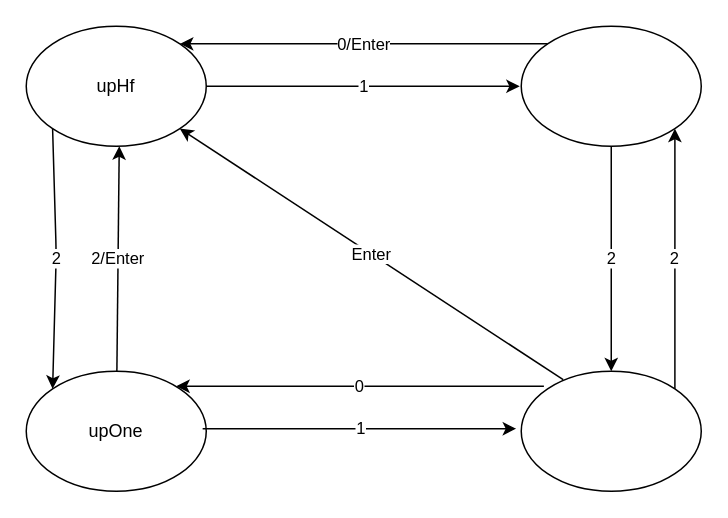
The diagram is 728 pixels wide and 518 high, and some of its shapes have lost their labels. The centre of each missing label's shape, as x and y in pixels:
"downHf" belongs at point (610, 85).
"downOne" belongs at point (610, 430).
